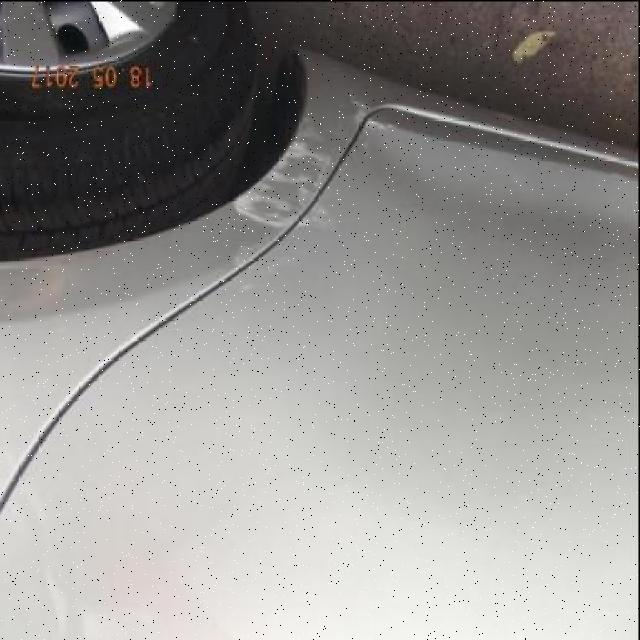damage: (233, 110, 338, 231), (347, 84, 395, 160)
